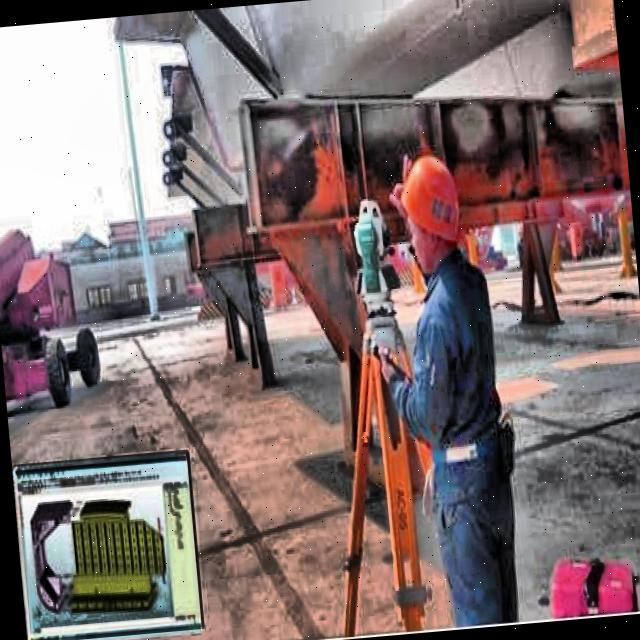helmet: (392, 146, 472, 275)
